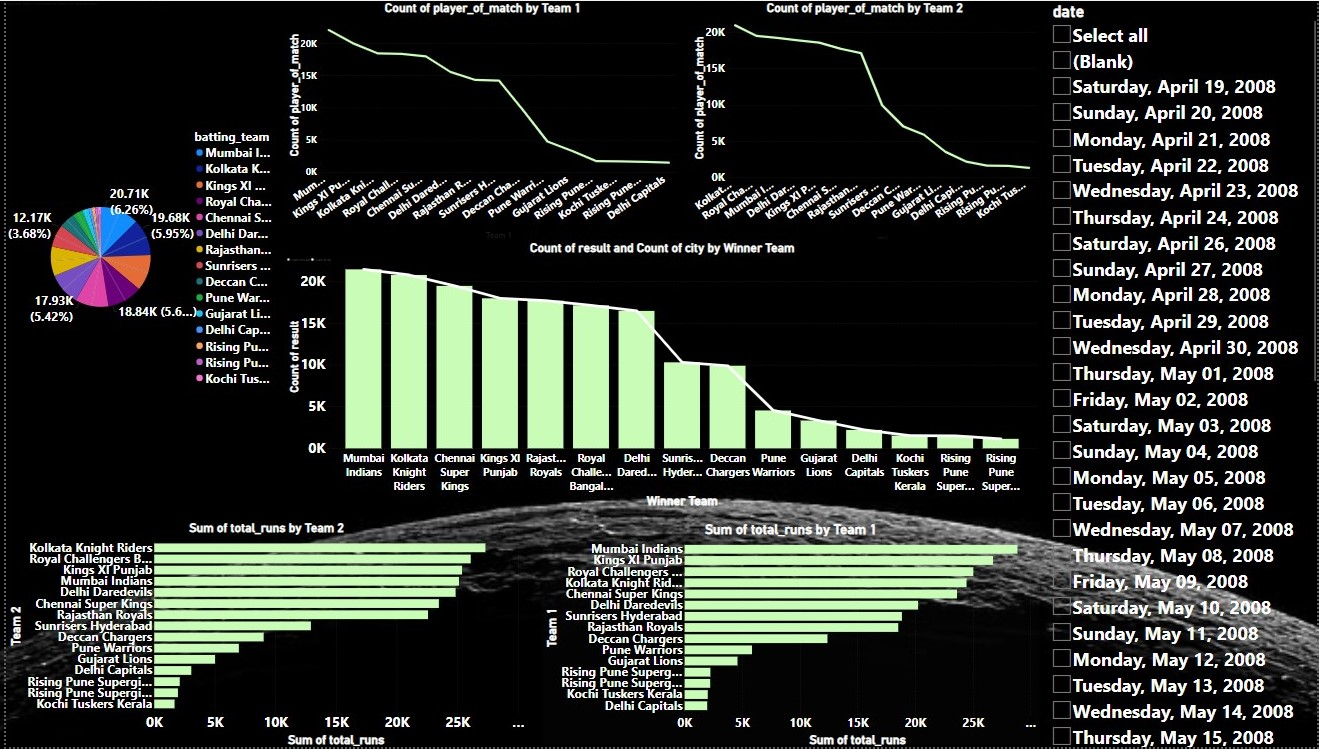

This screenshot's page, from the dashboard's own definition file:
{"tool":"powerbi","page":{"name":"Page 1","canvas":[5800,3300],"ordinal":0},"visuals":[{"type":"barChart","fields":{"Category":["Sport_Final.Team 1"],"Y":["Sum(Sport_Final.total_runs)"]},"box":[2371.4,2299.5,2200,1000.5],"z":0},{"type":"columnChart","box":[7.5,3587.9,2246.2,912.1],"z":1},{"type":"lineStackedColumnComboChart","fields":{"Category":["Sport_Final.Winner Team"],"Y":["CountNonNull(Sport_Final.result)"],"Y2":["CountNonNull(Sport_Final.city)"]},"box":[1238.2,1061.3,3327.6,1182.9],"z":5},{"type":"pieChart","fields":{"Category":["Sport_Final.batting_team"],"Y":["CountNonNull(Sport_Final.Team 1)","CountNonNull(Sport_Final.Team 2)"]},"box":[0,0,1194,2244.2],"z":6},{"type":"slicer","fields":{"Values":["Sport_Final.date"]},"box":[4615.6,0,1182.9,4394.5],"z":7},{"type":"barChart","fields":{"Category":["Sport_Final.Team 2"],"Y":["Sum(Sport_Final.total_runs)"]},"box":[0,2299.5,2305,1000.5],"z":8},{"type":"lineChart","fields":{"Category":["Sport_Final.Team 1"],"Y":["CountNonNull(Sport_Final.player_of_match)"]},"box":[1238.2,0,1741.2,1061.3],"z":9},{"type":"lineChart","fields":{"Category":["Sport_Final.Team 2"],"Y":["CountNonNull(Sport_Final.player_of_match)"]},"box":[3029.1,0,1536.7,1061.3],"z":10}]}

Visuals, with their boxes in screenshot pixels (x1, y1, x2, y2), scaled from the page's 5800x3300 canvas onto the 1319x749 screenshot:
barChart - Sport_Final.Team 1 x Sum(Sport_Final.total_runs): 539:522:1040:748
lineStackedColumnComboChart - Sport_Final.Winner Team x CountNonNull(Sport_Final.result): 282:241:1038:509
pieChart - Sport_Final.batting_team x CountNonNull(Sport_Final.Team 1): 0:0:272:509
slicer - Sport_Final.date: 1050:0:1318:748
barChart - Sport_Final.Team 2 x Sum(Sport_Final.total_runs): 0:522:524:748
lineChart - Sport_Final.Team 1 x CountNonNull(Sport_Final.player_of_match): 282:0:678:241
lineChart - Sport_Final.Team 2 x CountNonNull(Sport_Final.player_of_match): 689:0:1038:241
